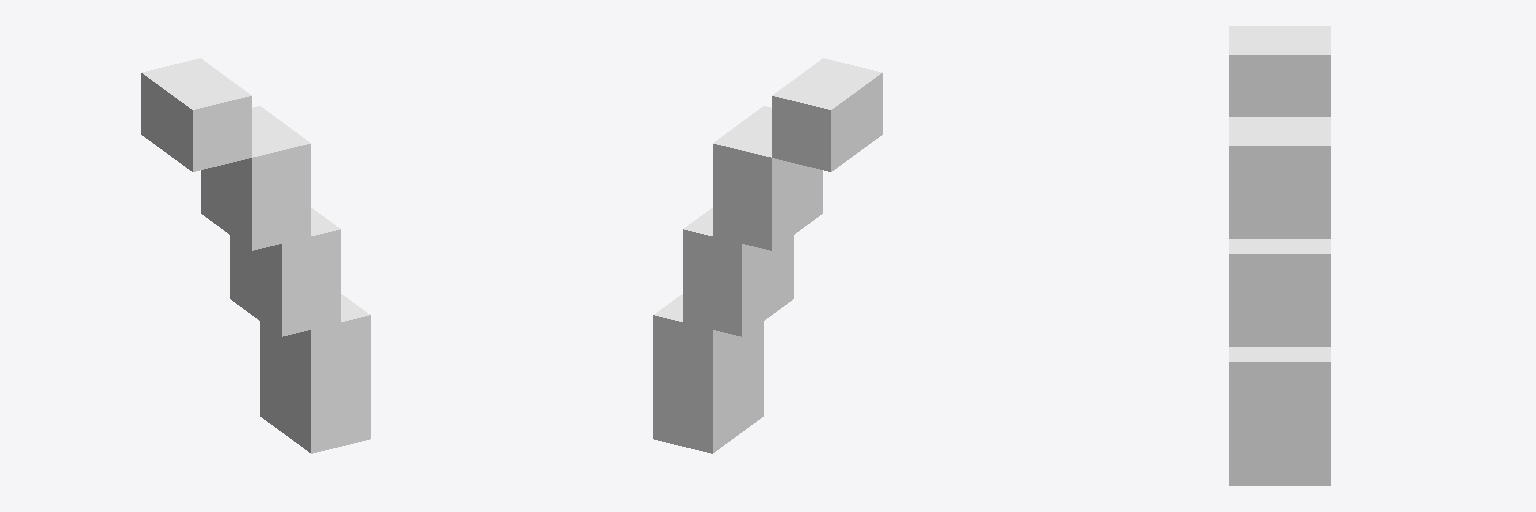
Rendered from SkyEnemyEye.obj.
3 renders of one model, left to right at view 1: azimuth 30°, elevation 25°; view 2: azimuth 150°, elevation 25°; view 3: azimuth 270°, elevation 25°, orthographic.
Size of the model in its own units: 6 by 12 by 3.